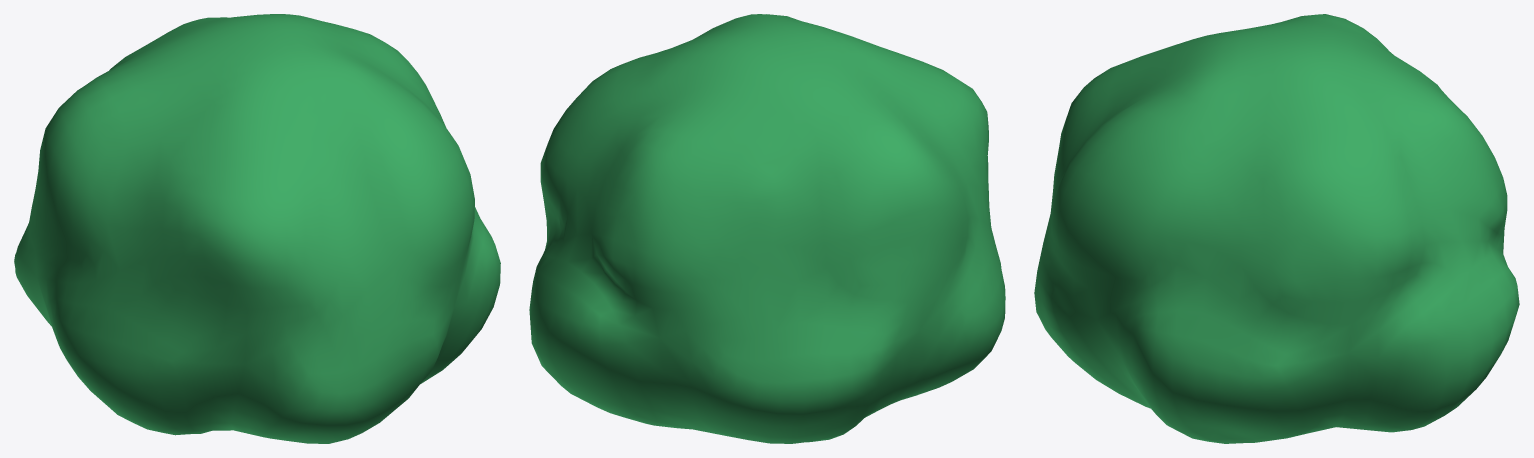
File: Tree_Top_D_01.fbx
3 views of the same model, side by side, from view 1: azimuth 30°, elevation 25°; view 2: azimuth 150°, elevation 25°; view 3: azimuth 270°, elevation 25° (orthographic).
Parts seen in each view (by area): view 1: Tree_Top_D_01_LOD0; view 2: Tree_Top_D_01_LOD0; view 3: Tree_Top_D_01_LOD0.
Part boxes in pixels (x1,y1,x2,y2): Tree_Top_D_01_LOD0: [14, 14, 500, 443]; Tree_Top_D_01_LOD0: [529, 14, 1005, 443]; Tree_Top_D_01_LOD0: [1034, 14, 1519, 443].
Size of what is drawn, in the model's own units: 547 by 459 by 567.
